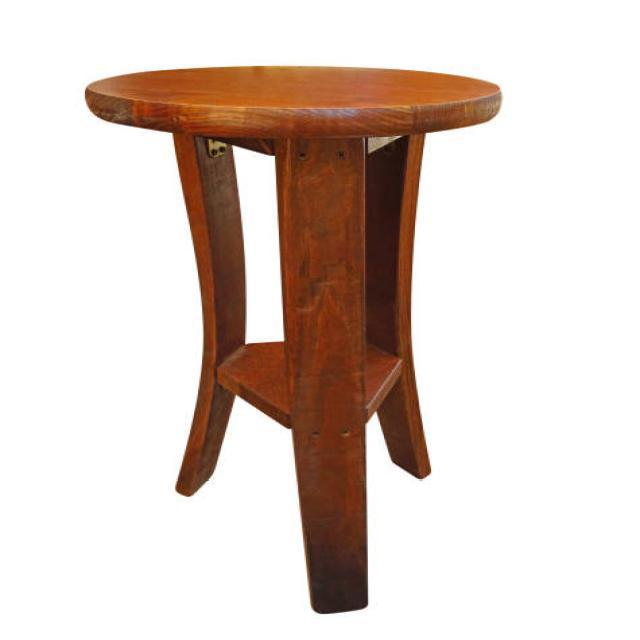table: (84, 64, 502, 614)
